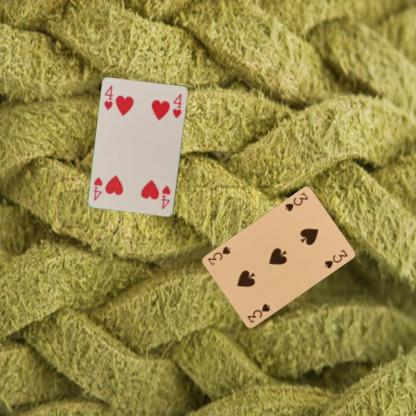3s: (244, 301, 272, 325), (282, 190, 310, 213)
4h: (102, 83, 114, 111), (159, 183, 171, 210)
